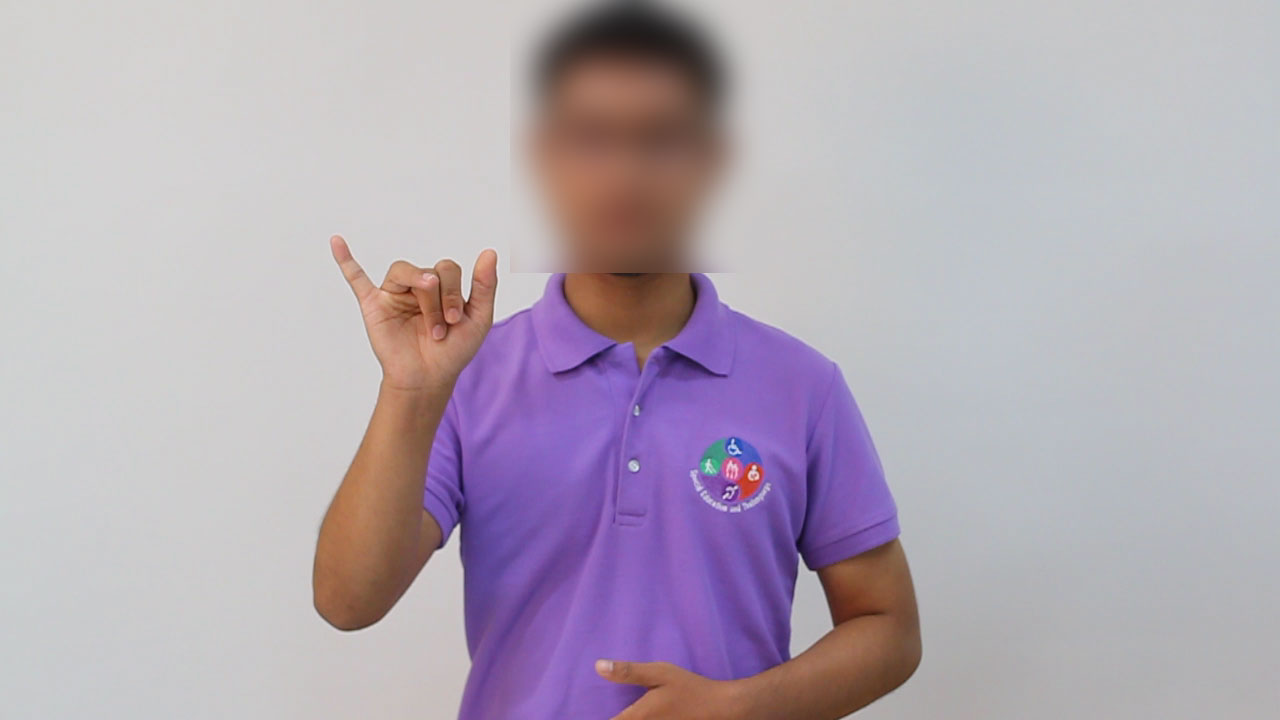yor: (316, 226, 510, 404)
